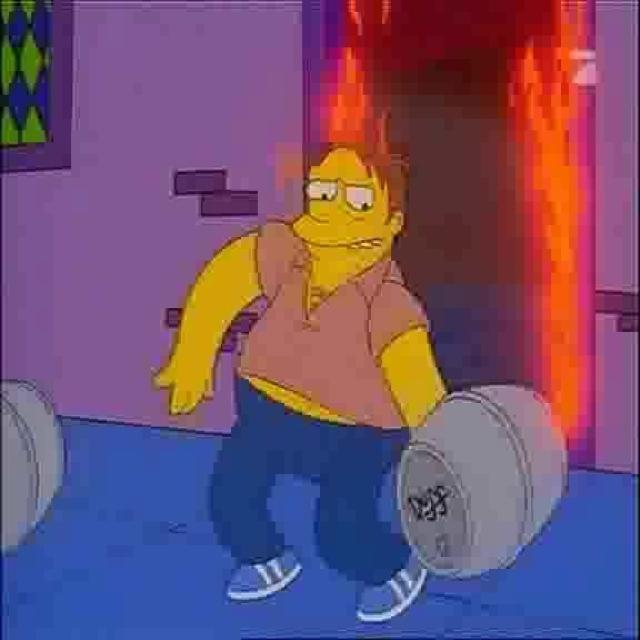Barney Gumble: (288, 126, 410, 286)
